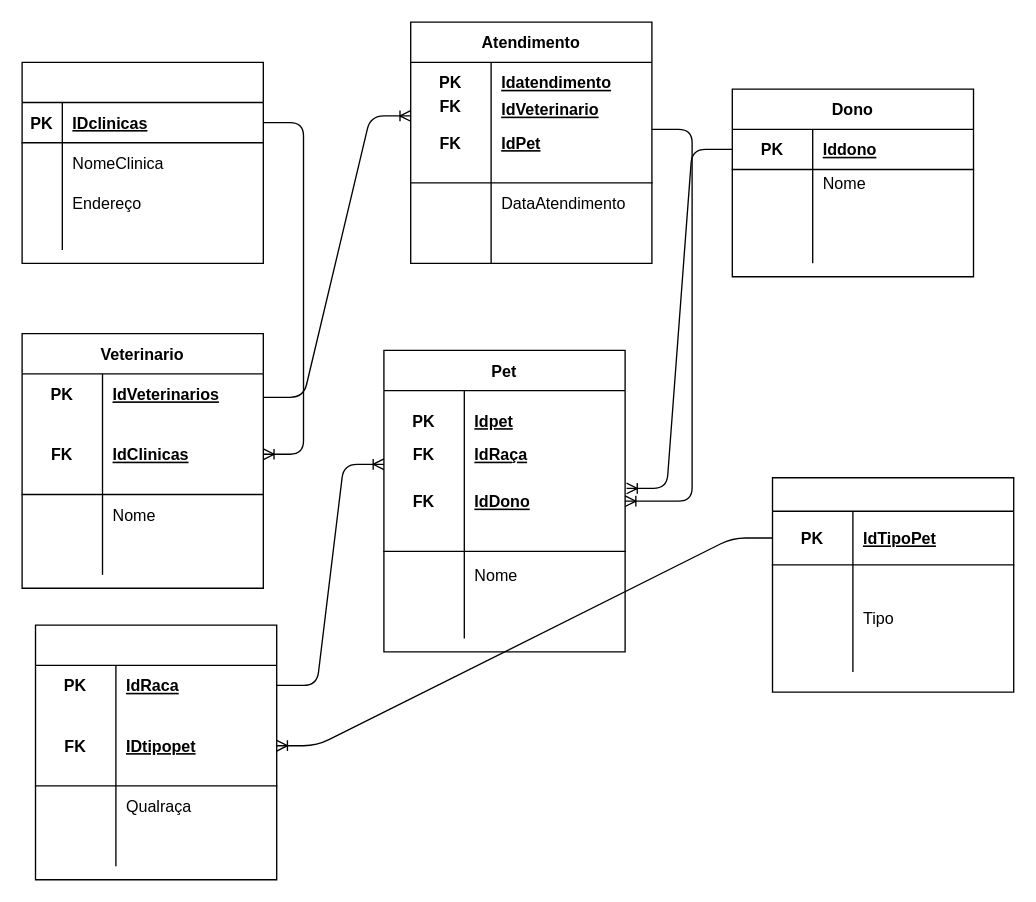
Image size: 1036x902. Some labels were removed from this diagram. The box of each missing label's shape, as (x1, y1, x2, y2) in pixels:
Raças: (34, 624, 277, 880)
TIpo de pet: (771, 476, 1014, 692)
